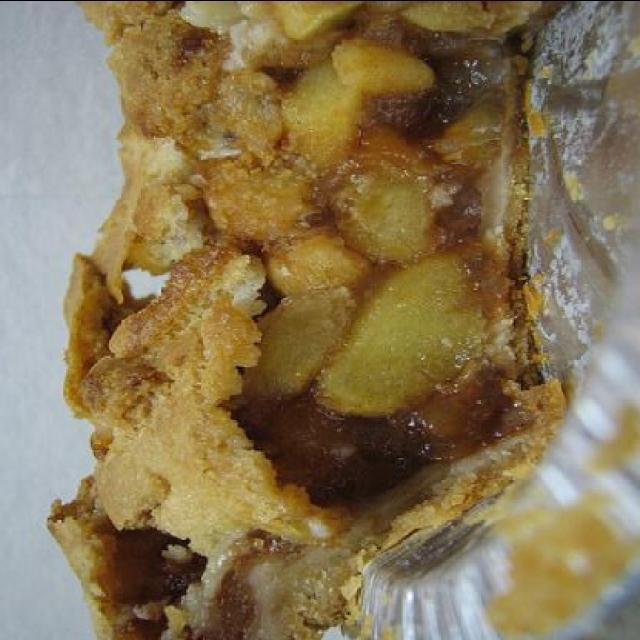Apple: (81, 3, 544, 626)
